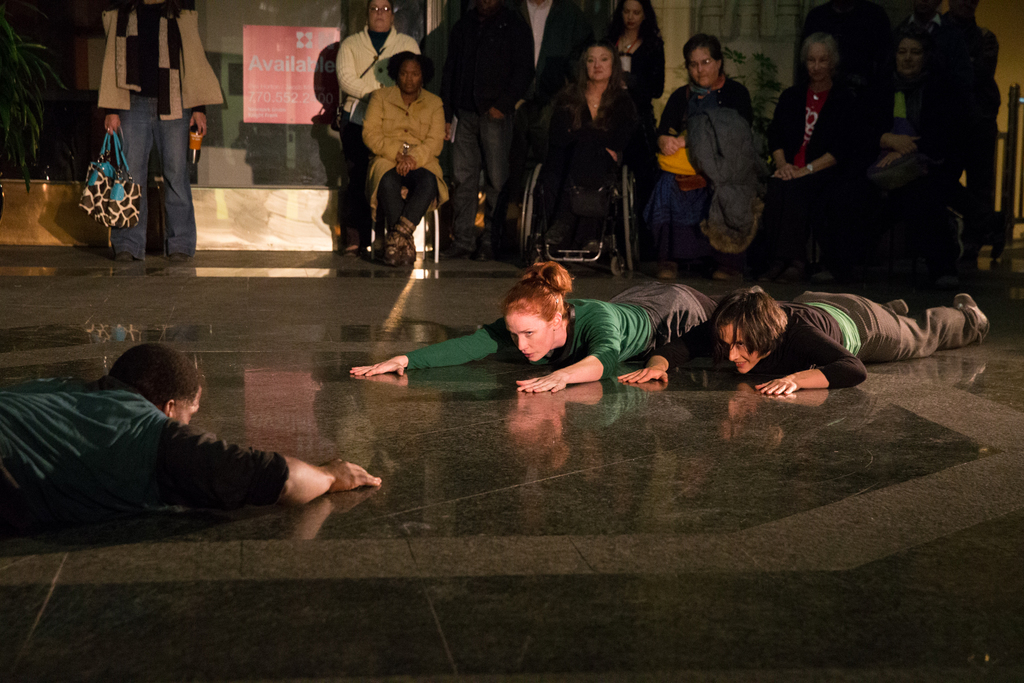Person: (0, 342, 380, 520), (805, 0, 1007, 286)
